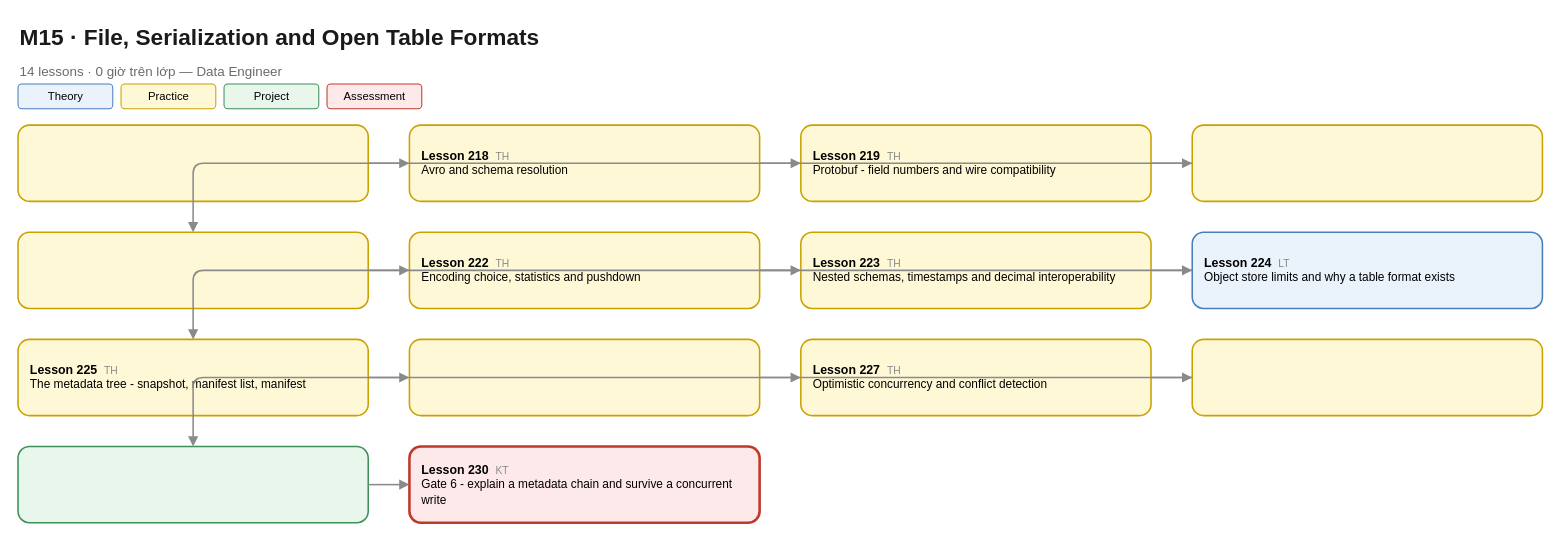
This 1561x542 diagram has some shape labels left out. The centre of each missing label's shape, as x and y in pixels:
"Lesson 217 TH CSV and JSON - the ambiguity you inherit" goes at pixel 193 163.
"Lesson 220 TH The compatibility matrix - writer old, reader new" goes at pixel 1367 163.
"Lesson 221 TH Parquet internals - row group, column chunk, page" goes at pixel 193 270.
"Lesson 226 TH The commit protocol and atomic visibility" goes at pixel 584 377.
"Lesson 228 TH Hidden partitioning, partition evolution and schema field IDs" goes at pixel 1367 377.
"Lesson 229 DA Maintenance project - deletes, compaction and safe cleanup" goes at pixel 193 484.
